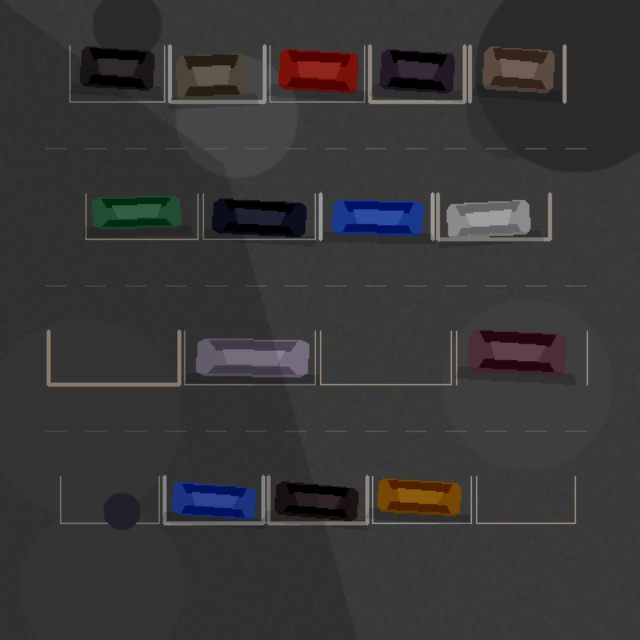space-empty: (48, 331, 179, 384), (320, 331, 451, 384), (60, 476, 159, 523), (476, 476, 575, 523)
space-occupied: (184, 331, 315, 384), (456, 331, 587, 384), (69, 45, 164, 101), (169, 45, 264, 101), (269, 45, 364, 101), (369, 45, 464, 101), (469, 45, 564, 101), (85, 193, 197, 239), (203, 193, 315, 239), (320, 193, 432, 239), (437, 193, 549, 239), (164, 476, 263, 523), (268, 476, 367, 523), (372, 476, 471, 523)
